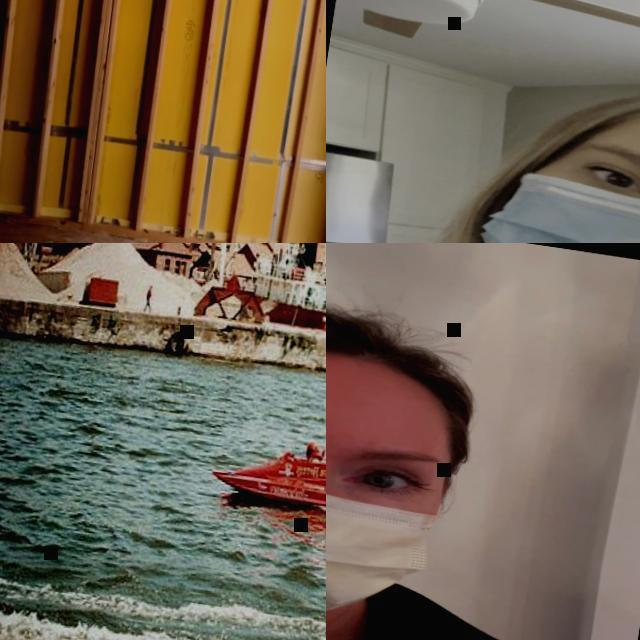helmet: (304, 441, 321, 456)
mask: (326, 436, 456, 636)
no_helmet: (326, 284, 490, 434)
no_vest: (142, 284, 156, 314), (146, 290, 152, 300)
person: (326, 267, 640, 640), (326, 42, 640, 243), (304, 442, 322, 464)
